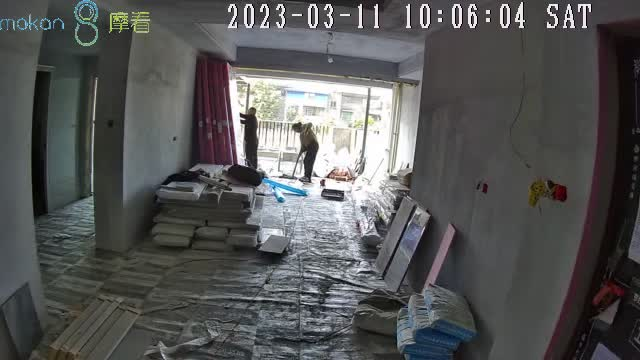people: (291, 121, 318, 184), (239, 107, 258, 170)
window: (236, 74, 392, 170)
